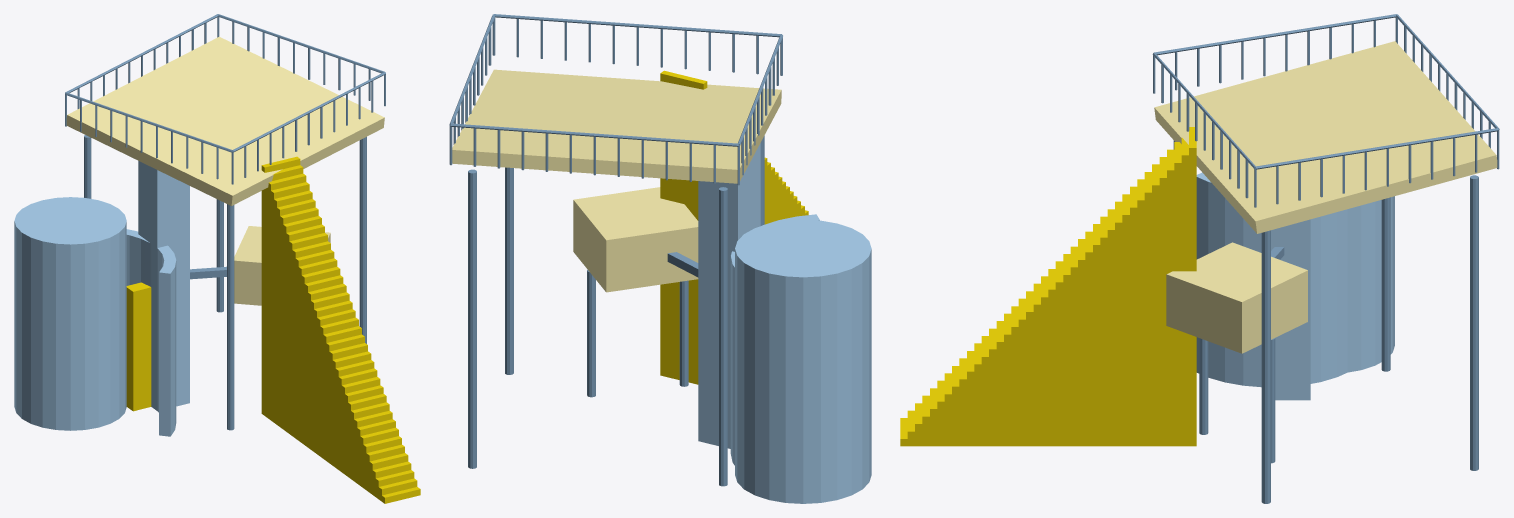
The model's file is folie_tag_015.glb.
3 views of the same model, side by side, from view 1: azimuth 30°, elevation 25°; view 2: azimuth 150°, elevation 25°; view 3: azimuth 270°, elevation 25° (orthographic). The views are drawn at different scales.
Visible parts, largest first — view 1: folie_tag_015_stairs, folie_tag_015_00_plate, folie_tag_015_01_drum, folie_tag_015_line, folie_tag_015_core, folie_tag_015_02_curve, folie_tag_015_04_fin, folie_tag_015_03_block; view 2: folie_tag_015_01_drum, folie_tag_015_00_plate, folie_tag_015_line, folie_tag_015_03_block, folie_tag_015_core, folie_tag_015_stairs, folie_tag_015_02_curve; view 3: folie_tag_015_stairs, folie_tag_015_00_plate, folie_tag_015_line, folie_tag_015_02_curve, folie_tag_015_03_block, folie_tag_015_01_drum, folie_tag_015_core.
Boxes of the visible parts, <box> form: folie_tag_015_stairs: <box>261,156,420,503</box>; folie_tag_015_00_plate: <box>66,36,384,205</box>; folie_tag_015_01_drum: <box>14,197,126,430</box>; folie_tag_015_line: <box>65,14,385,430</box>; folie_tag_015_core: <box>138,161,189,410</box>; folie_tag_015_02_curve: <box>126,229,176,436</box>; folie_tag_015_04_fin: <box>126,282,151,411</box>; folie_tag_015_03_block: <box>234,226,330,305</box>; folie_tag_015_01_drum: <box>735,219,871,503</box>; folie_tag_015_00_plate: <box>452,69,781,183</box>; folie_tag_015_line: <box>449,14,782,486</box>; folie_tag_015_03_block: <box>573,187,698,292</box>; folie_tag_015_core: <box>698,143,760,448</box>; folie_tag_015_stairs: <box>660,70,808,384</box>; folie_tag_015_02_curve: <box>730,214,819,465</box>; folie_tag_015_stairs: <box>900,127,1196,446</box>; folie_tag_015_00_plate: <box>1154,41,1497,233</box>; folie_tag_015_line: <box>1152,14,1499,503</box>; folie_tag_015_02_curve: <box>1196,172,1347,387</box>; folie_tag_015_03_block: <box>1166,242,1307,353</box>; folie_tag_015_01_drum: <box>1347,196,1394,372</box>; folie_tag_015_core: <box>1271,219,1310,400</box>.
Size of the model in its own units: 11.26 by 9.26 by 14.57.
